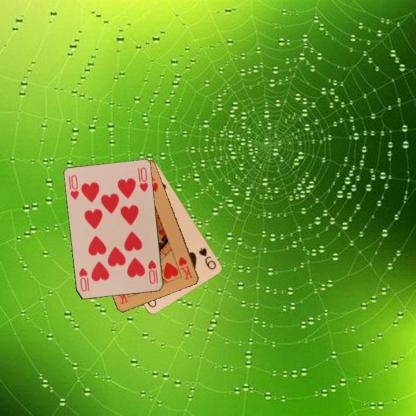10h: (145, 258, 158, 285), (68, 173, 80, 201)
9s: (196, 245, 218, 271)
Kh: (176, 254, 194, 282)
